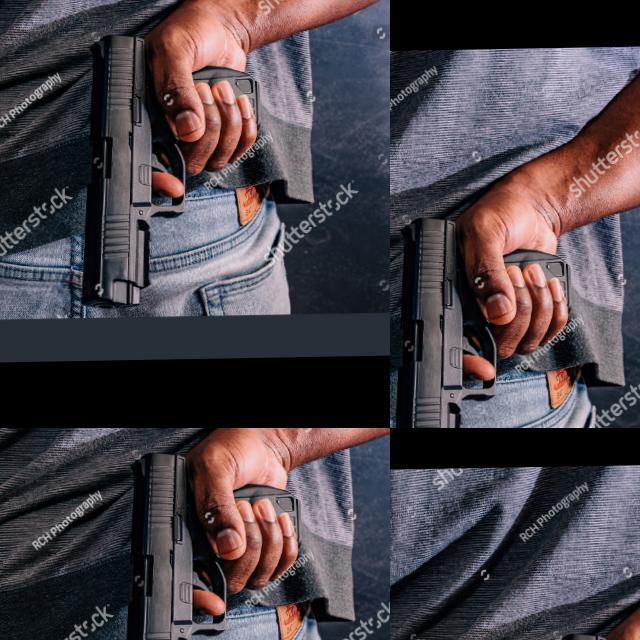handgun: (390, 61, 640, 428), (0, 0, 37, 137), (0, 428, 55, 502)
